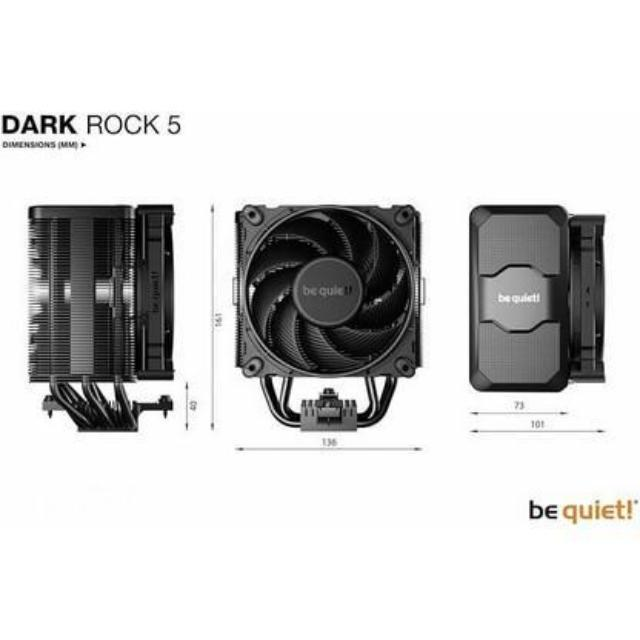CPU_Fan: (231, 204, 426, 436), (22, 202, 176, 434), (466, 203, 611, 397)
